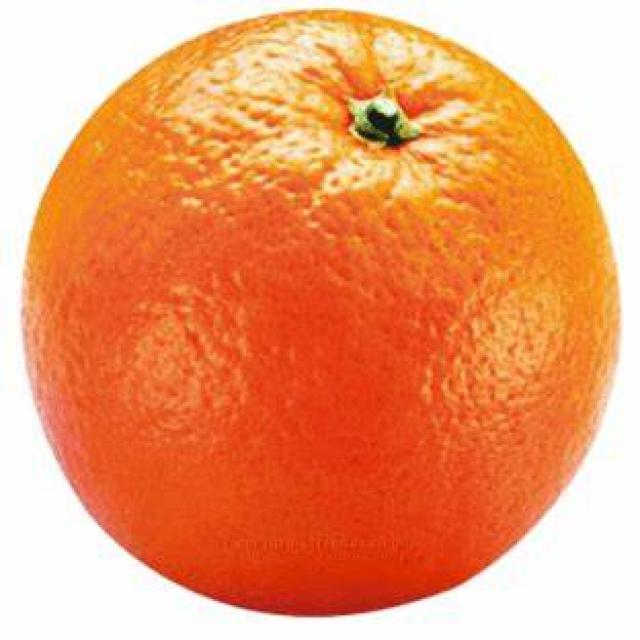Orange: (19, 12, 622, 616)
